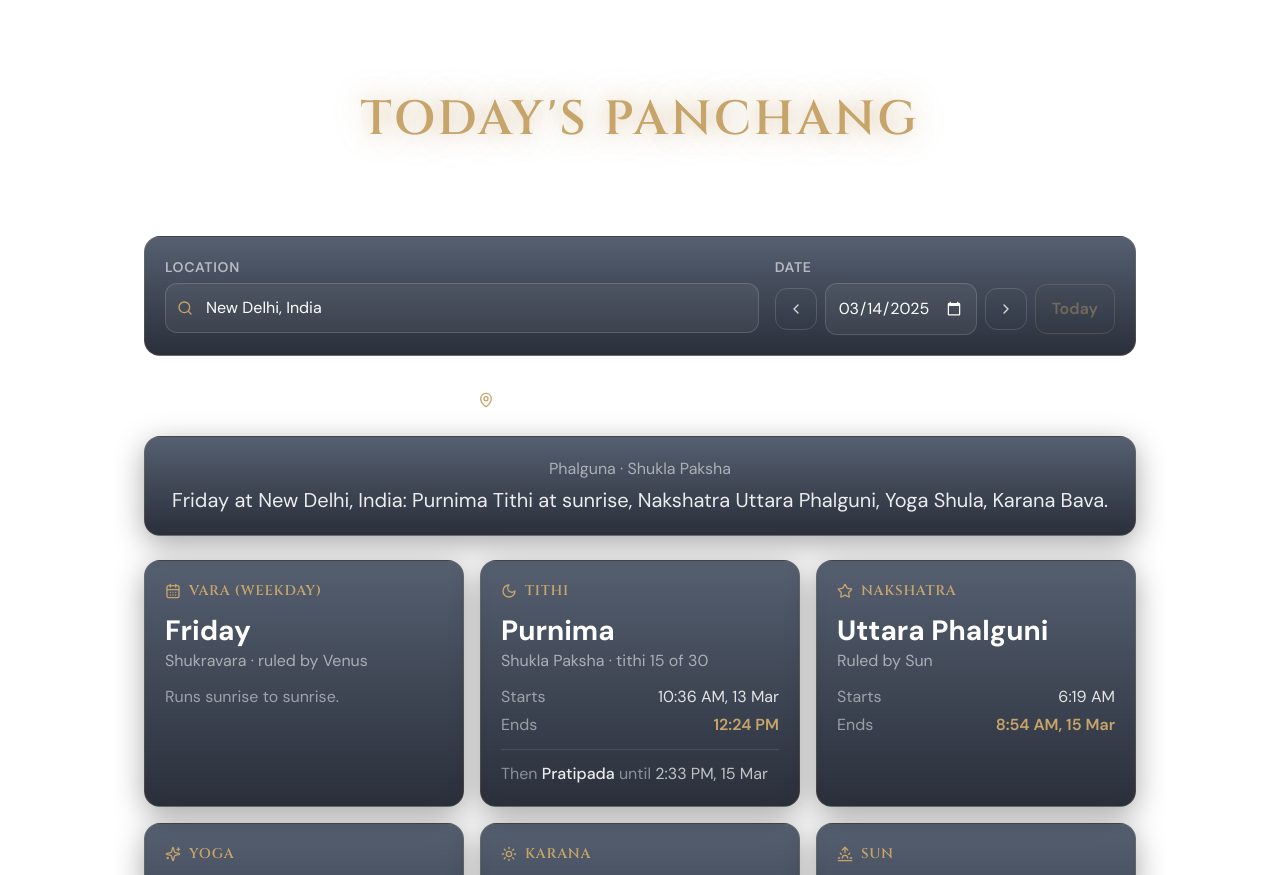
Test: Panchang page: location changes › searches after a pause, then recalculates for the chosen place
This screenshot has width=1280, height=875.
Replace the text in the dropdown with "L". click: (462, 308)
box: 165,283 -> 759,333
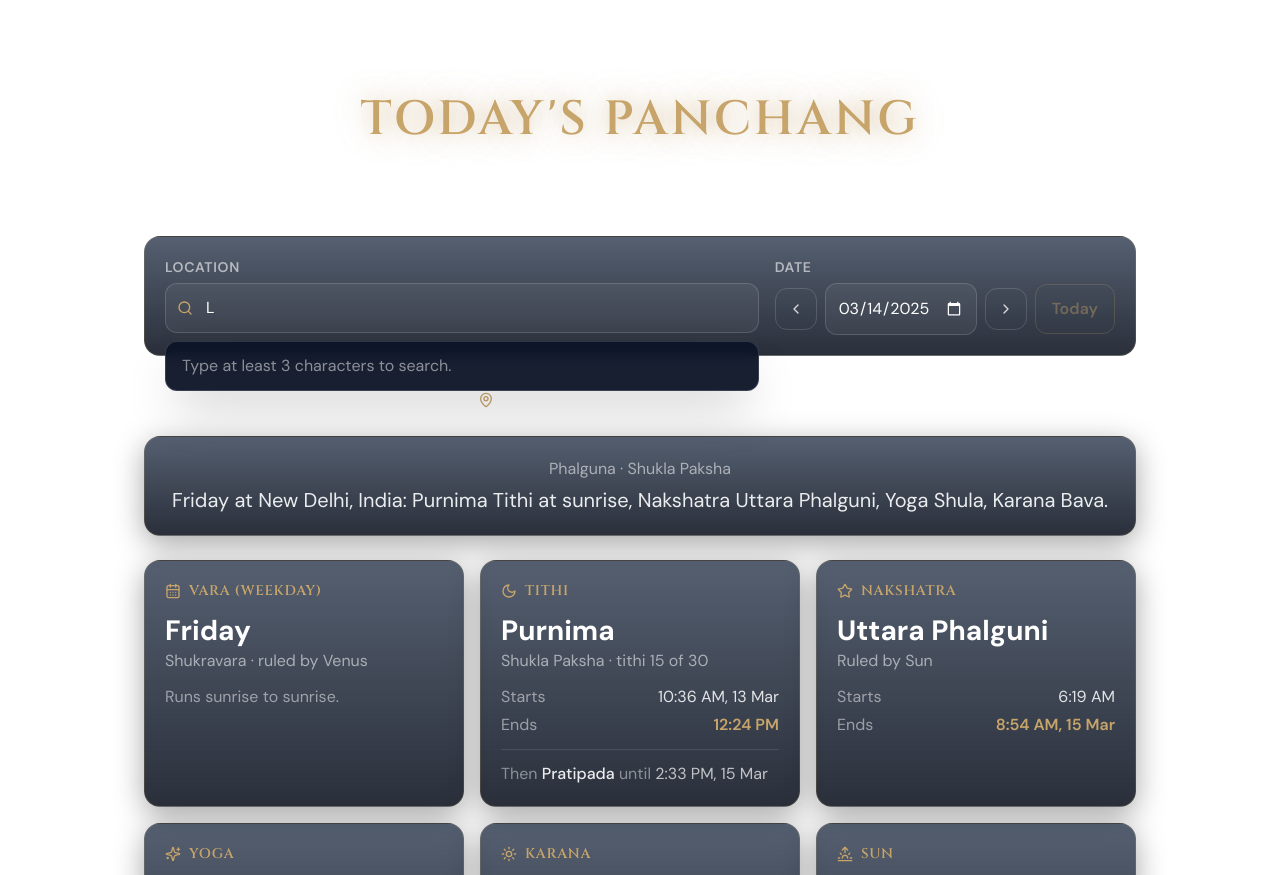
Replace the text in the dropdown with "Lo". click: (462, 308)
box: 165,283 -> 759,333
Replace the text in the dropdown with "Lon". click: (462, 308)
box: 165,283 -> 759,333
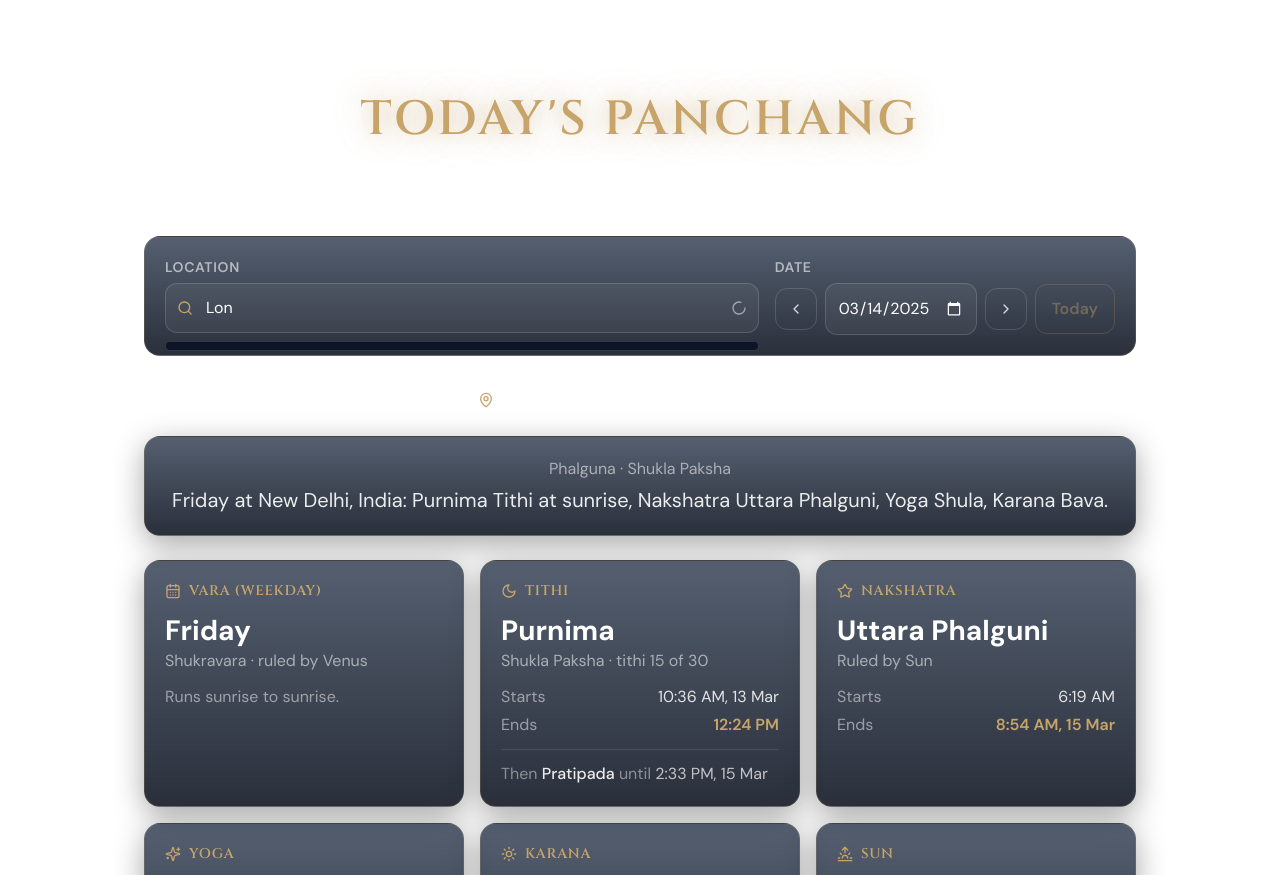
Replace the text in the dropdown with "Lond". click: (462, 308)
box: 165,283 -> 759,333
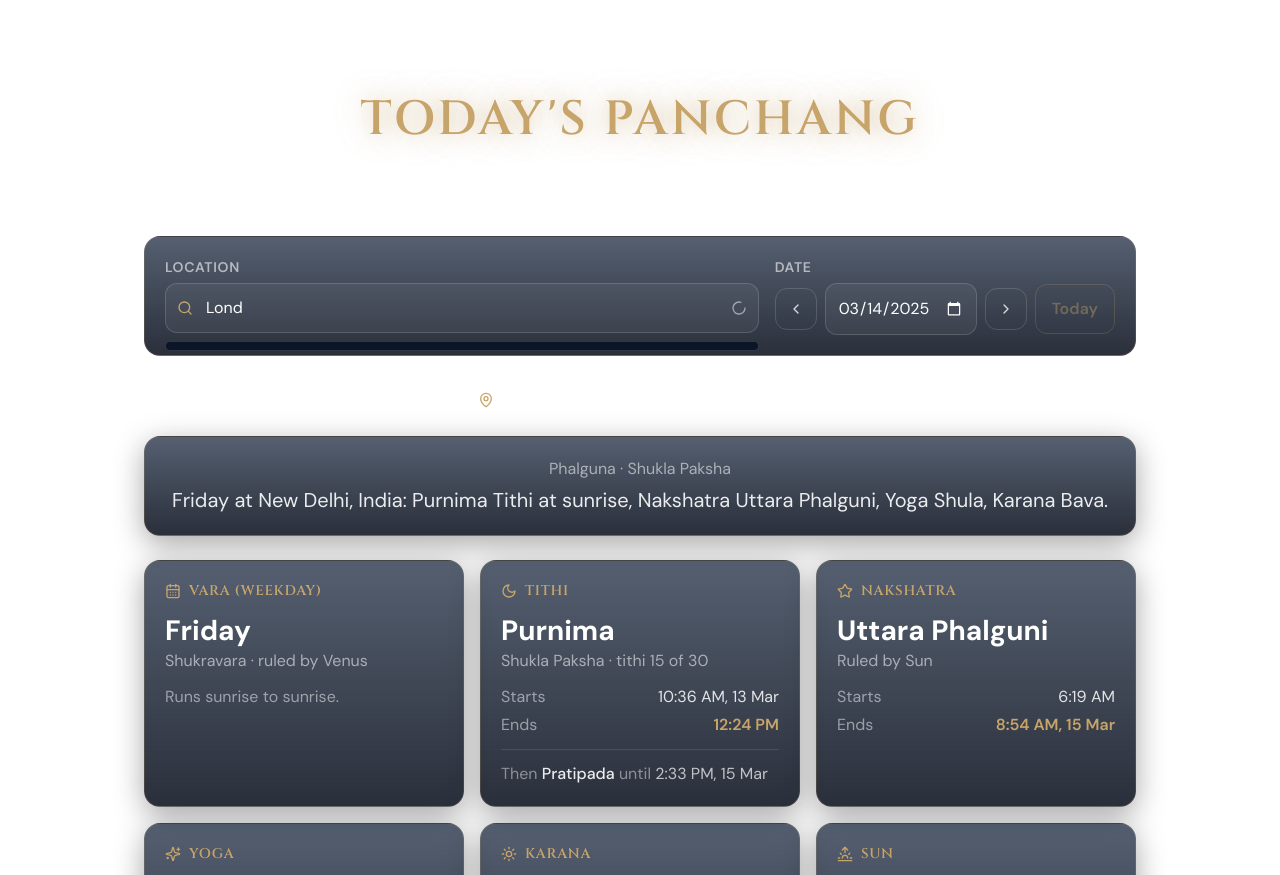
Replace the text in the dropdown with "Londo". click: (462, 308)
box: 165,283 -> 759,333
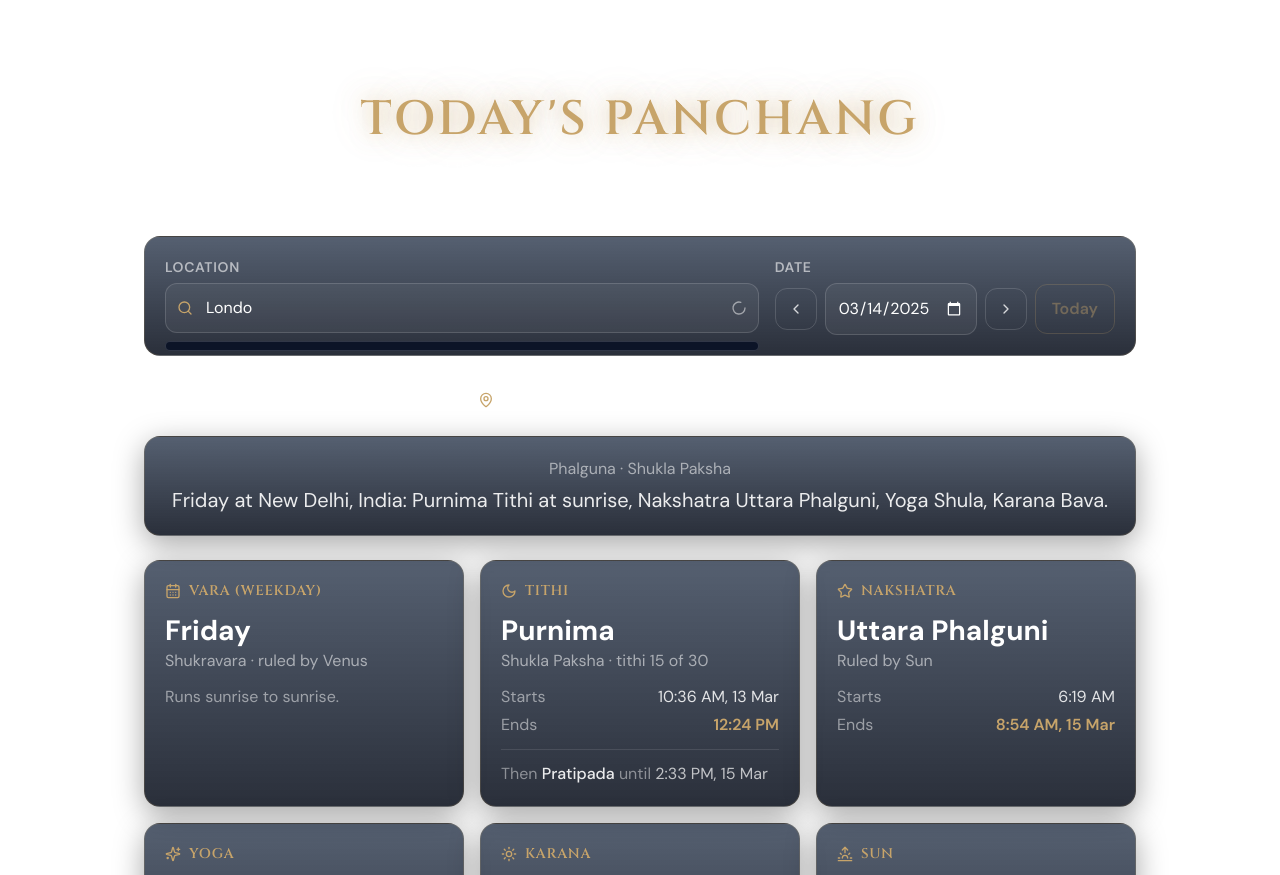
Replace the text in the dropdown with "London". click: (462, 308)
box: 165,283 -> 759,333
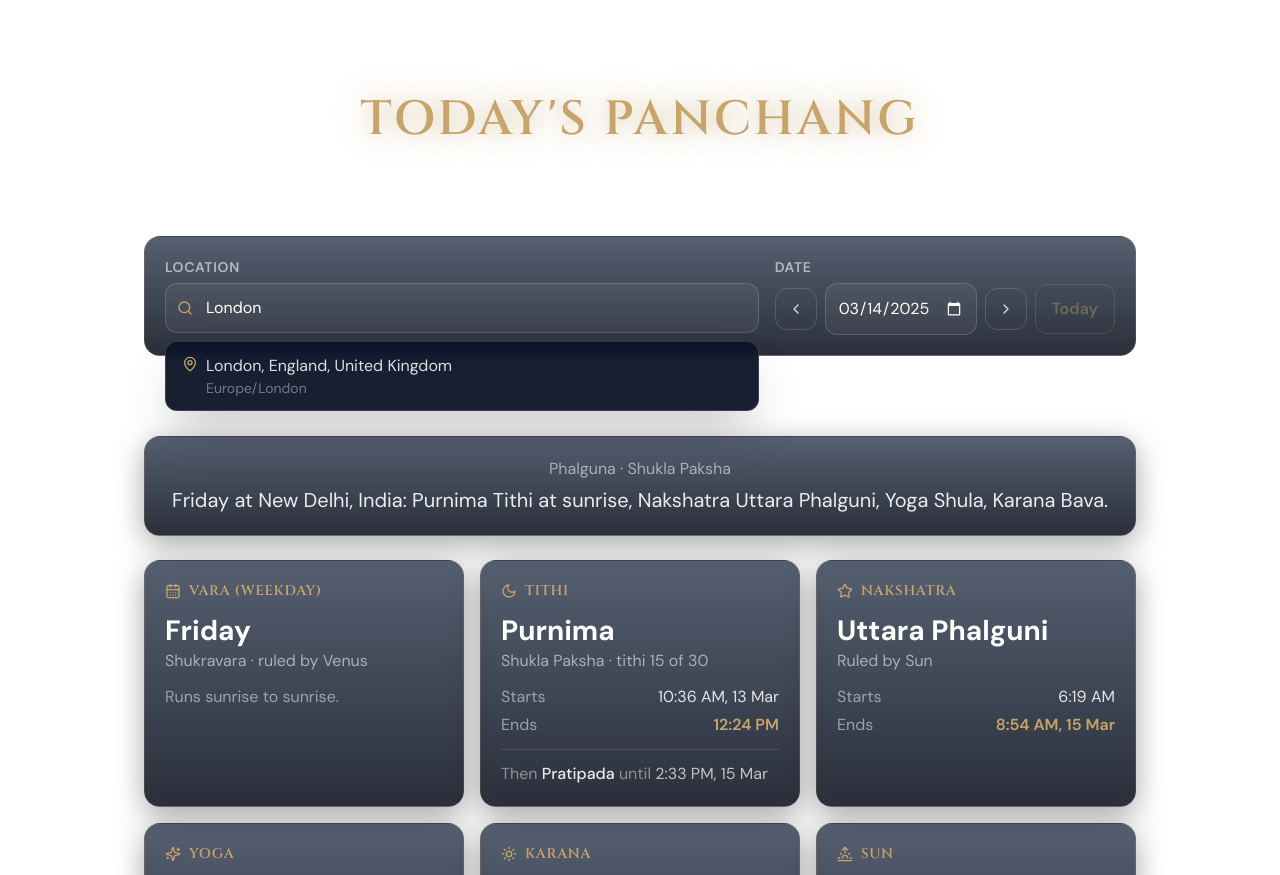
Click the button "London, England, United Kingdom Europe/London". click: (329, 366)
box: 170,346 -> 754,406
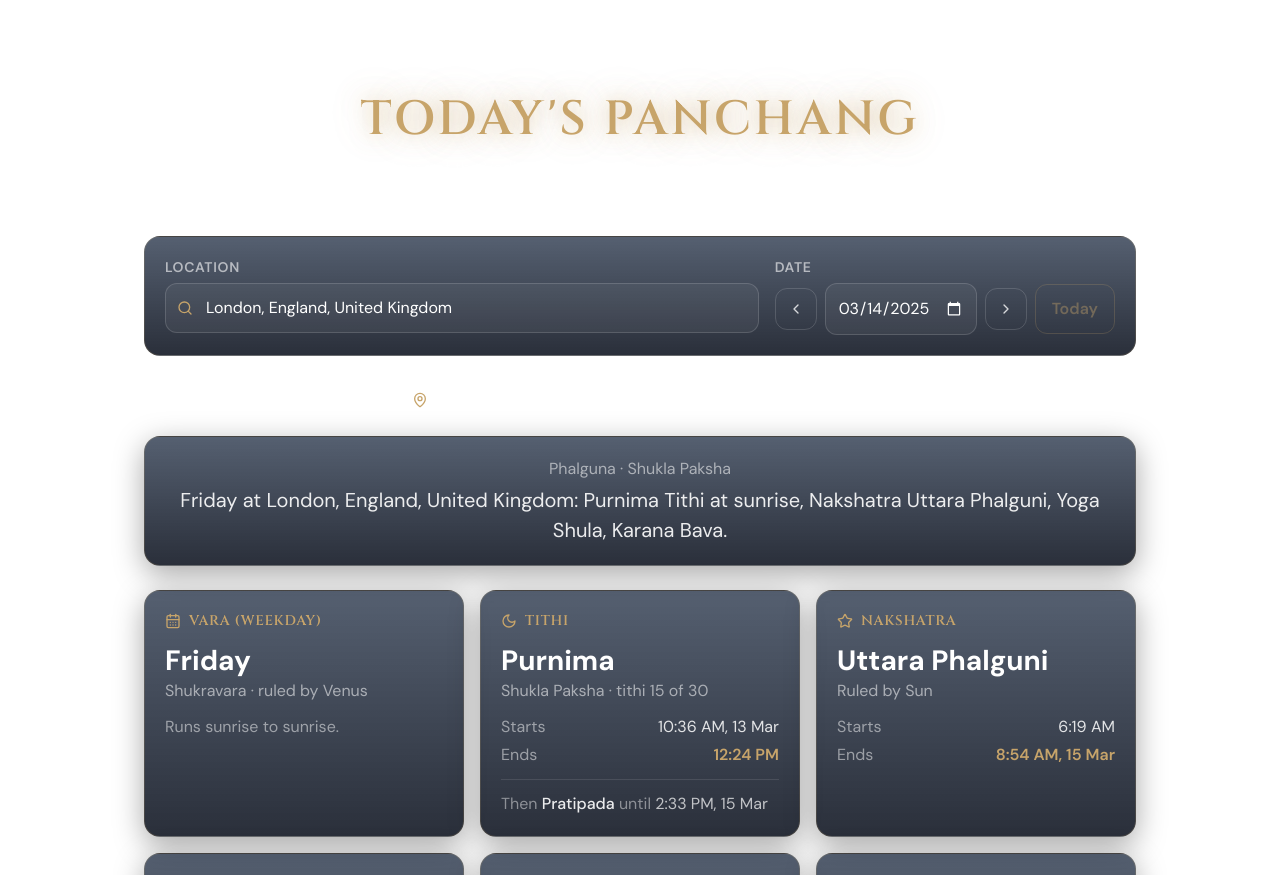
Expected: the element showing "London, England, United Kingdom" is shown, 412,388 -> 680,412
